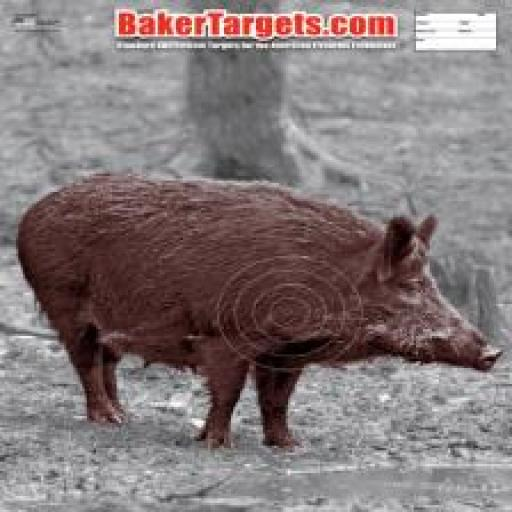Pig: (14, 171, 502, 446)
